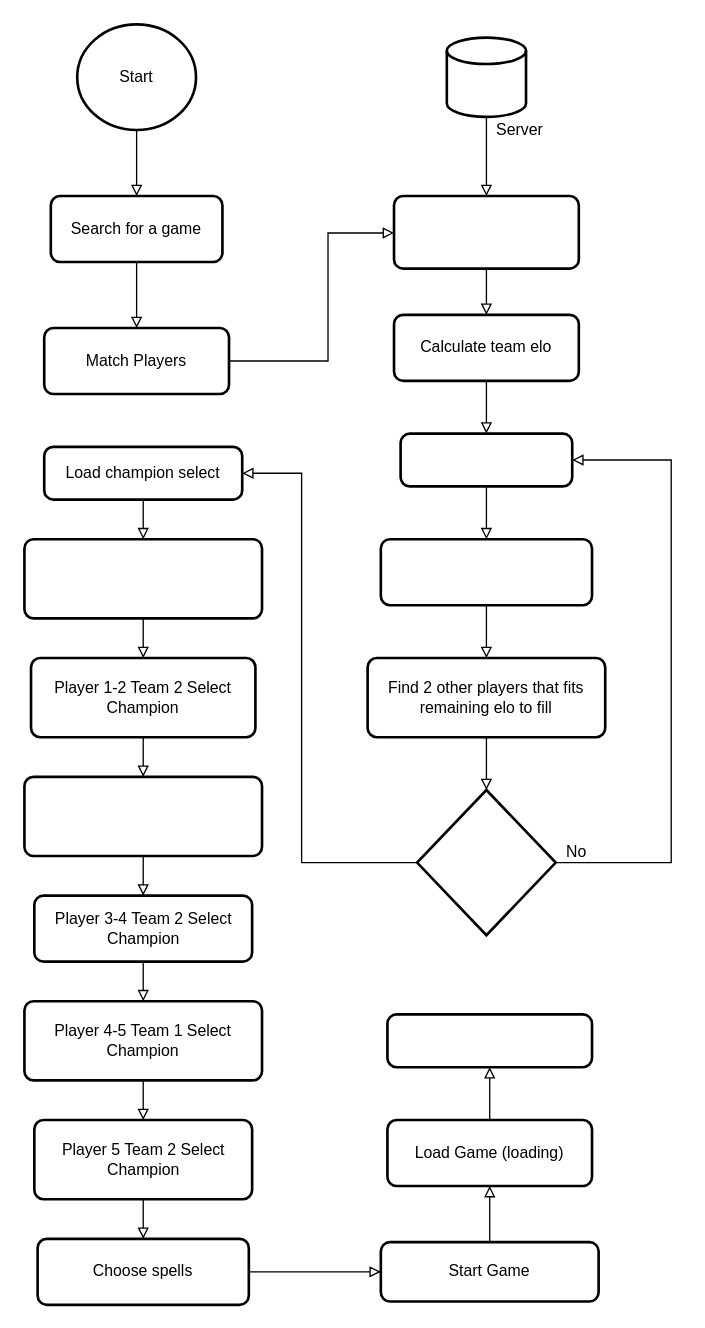
Image size: 705x1328. Some labels were removed from this diagram. Here are the shapes that lost their labels. From the top down, the box of each, then its label:
(392, 194, 579, 269): Find 4 other players
(399, 432, 573, 487): Find 3 players
(22, 537, 263, 619): Player 1 Team 1 Select Champion
(379, 537, 593, 606): Calculate other team elo
(22, 775, 263, 857): Player 2-3 Team 1 Select Champion
(415, 788, 556, 936): 2 teams elo are similar?
(385, 1012, 593, 1068): Spawn Players
